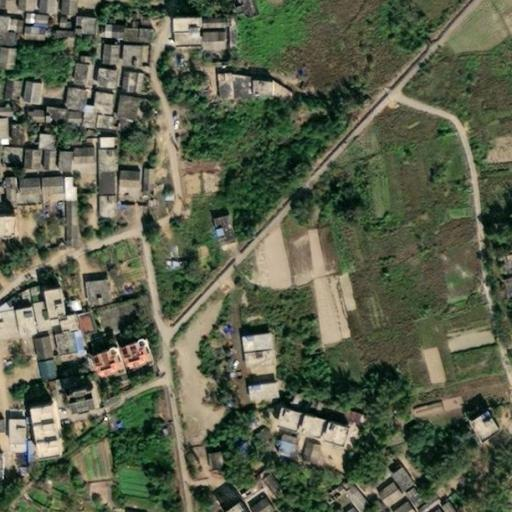building: (409, 390, 461, 416), (466, 410, 500, 445), (86, 347, 121, 377), (236, 334, 268, 366), (332, 481, 362, 512), (115, 339, 147, 368), (129, 98, 155, 132), (369, 481, 398, 510), (179, 152, 218, 171), (207, 212, 227, 249), (272, 408, 299, 435), (324, 423, 350, 450), (382, 467, 408, 493), (243, 81, 282, 98), (407, 491, 437, 512), (64, 385, 90, 409), (300, 416, 324, 442), (12, 308, 33, 337), (242, 383, 274, 402), (237, 493, 269, 512), (249, 420, 273, 444), (30, 406, 56, 428), (233, 485, 259, 507), (45, 291, 63, 322), (79, 282, 104, 304), (87, 68, 112, 90), (36, 441, 62, 462), (33, 424, 59, 445), (116, 200, 138, 224), (342, 402, 366, 424), (495, 273, 512, 304), (58, 86, 78, 112), (394, 487, 416, 510), (33, 306, 51, 334), (172, 19, 200, 37), (26, 336, 46, 361), (110, 95, 129, 121), (115, 45, 138, 66), (252, 473, 273, 496), (49, 331, 69, 355), (210, 72, 226, 101), (86, 94, 107, 116), (113, 70, 134, 92), (90, 149, 111, 171), (9, 459, 26, 486), (37, 194, 54, 220), (32, 177, 58, 194), (12, 81, 32, 103), (70, 312, 89, 335), (1, 420, 19, 444), (91, 171, 109, 195), (29, 359, 49, 380), (86, 264, 107, 283), (15, 149, 33, 171), (195, 33, 218, 50), (69, 18, 89, 37), (93, 45, 111, 66), (382, 498, 409, 512), (9, 178, 33, 193), (91, 195, 106, 219), (49, 149, 65, 171), (33, 149, 49, 171), (421, 499, 448, 512), (45, 377, 74, 389), (6, 288, 24, 307), (66, 63, 82, 84), (0, 219, 17, 238), (228, 0, 247, 17), (75, 105, 89, 128), (1, 193, 16, 214), (51, 0, 69, 17), (112, 171, 131, 187), (17, 27, 40, 40), (30, 0, 49, 15), (7, 0, 28, 13), (27, 110, 43, 127), (89, 115, 107, 130), (112, 26, 130, 41), (58, 177, 68, 203), (133, 168, 146, 188), (129, 27, 145, 43), (199, 452, 213, 470), (64, 226, 75, 248), (96, 25, 112, 40), (5, 123, 15, 146), (56, 203, 69, 220), (33, 134, 47, 149), (75, 149, 88, 165), (199, 18, 216, 30), (24, 16, 40, 28), (93, 138, 108, 149), (65, 149, 75, 165), (60, 111, 73, 123), (66, 333, 74, 352), (0, 17, 8, 33), (71, 54, 81, 65), (111, 120, 123, 129), (38, 378, 46, 390), (18, 441, 24, 456), (52, 110, 61, 120), (0, 107, 4, 117), (0, 302, 4, 311)
